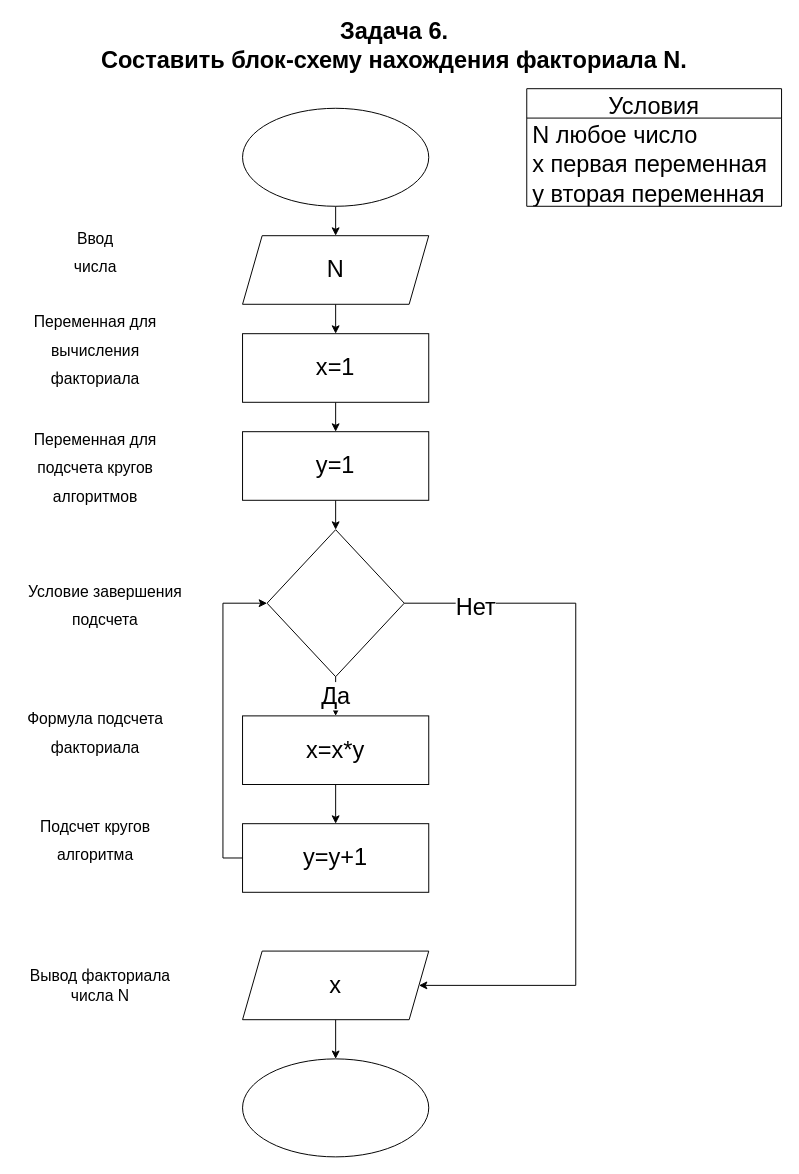
Image size: 799x1174. Some labels were removed from this diagram. The shapes that lost their labels are listed below. From the top down, each one's centre as x and y in pixels, then its label:
the point at 335,156: Старт
the point at 335,603: y <= N
the point at 335,1107: Конец
